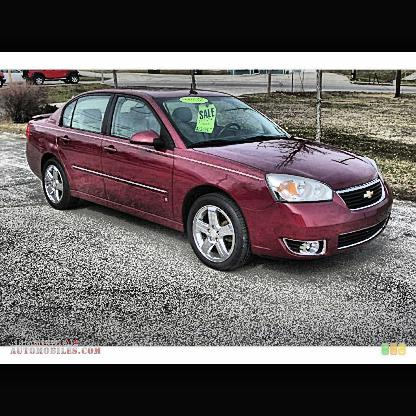Chevrolet Malibu Sedan 2007: (26, 87, 396, 275)
